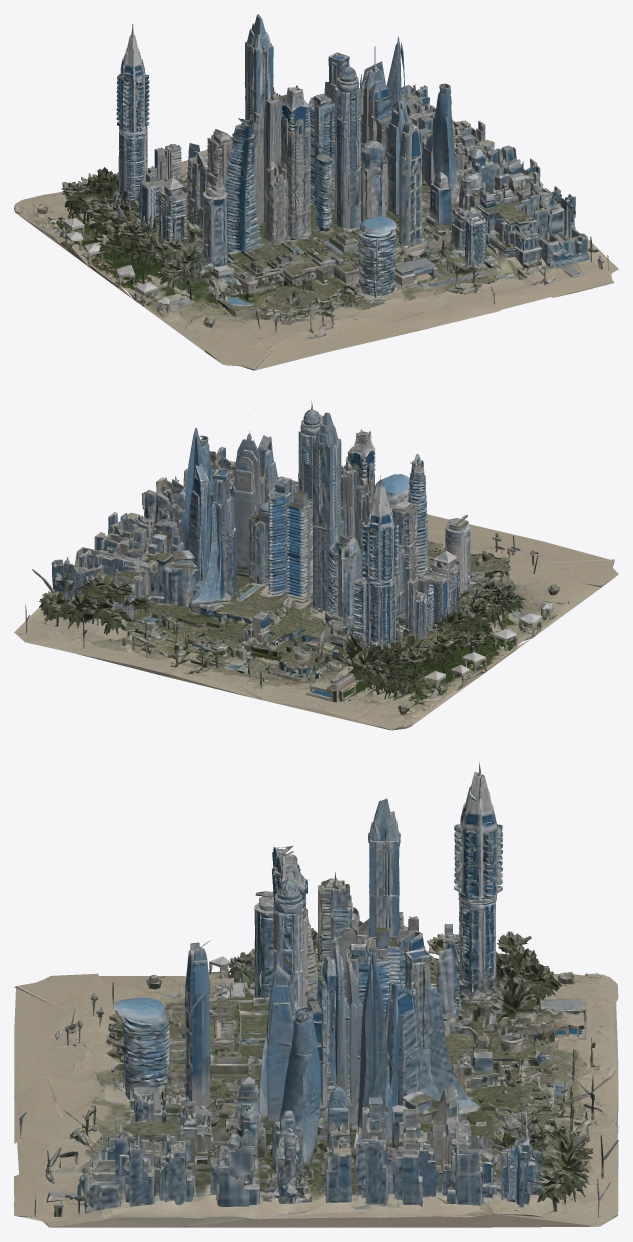
File: dubai_marina.glb
3 views of the same model, one above another, from view 1: azimuth 30°, elevation 25°; view 2: azimuth 150°, elevation 25°; view 3: azimuth 270°, elevation 25° (orthographic). The views are drawn at different scales.
Parts seen in each view (by area): view 1: Mesh_0; view 2: Mesh_0; view 3: Mesh_0.
Part boxes in pixels (x1,y1,x2,y2): Mesh_0: [14, 14, 618, 370]; Mesh_0: [14, 400, 618, 730]; Mesh_0: [14, 761, 618, 1227].
Size of the model in its own units: 1.9 by 0.9871 by 1.92.
1 material, 1 textured.
